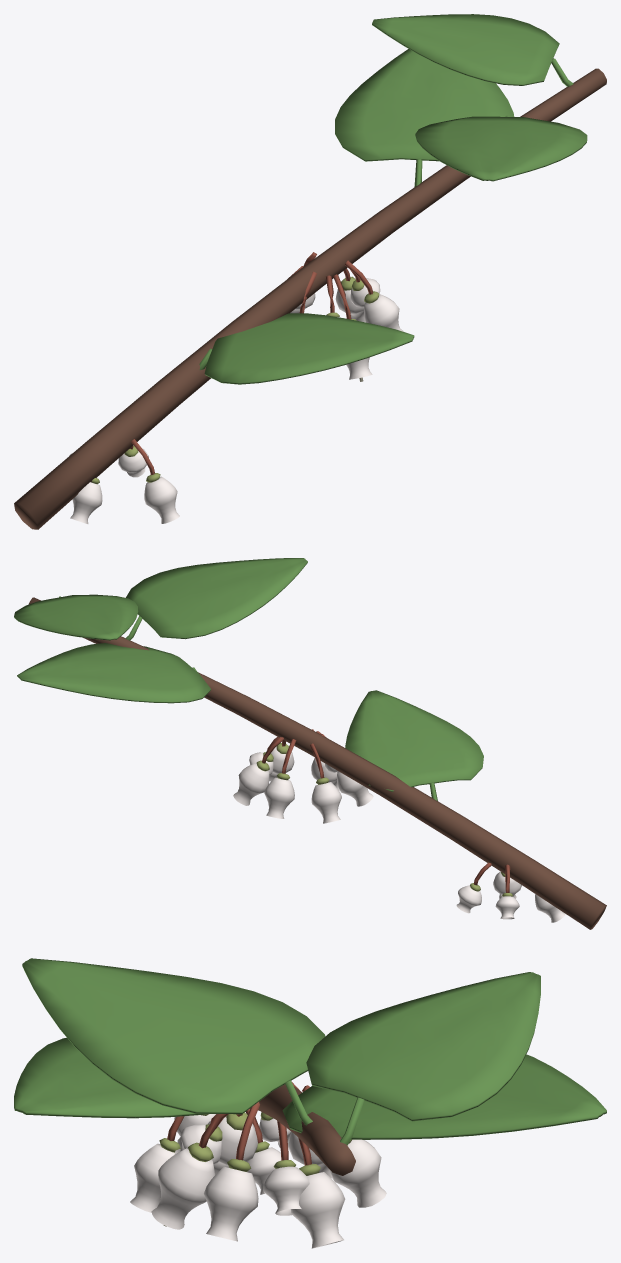
Rendered from flower-vaccinium.glb.
3 views of the same model, one above another, from view 1: azimuth 30°, elevation 25°; view 2: azimuth 150°, elevation 25°; view 3: azimuth 270°, elevation 25° (orthographic). The views are drawn at different scales.
Parts seen in each view (by area): view 1: leaves, twig, cluster_flowers; view 2: leaves, twig, cluster_flowers; view 3: leaves, cluster_flowers, hero_bell, twig, hero_parts.
Part boxes in pixels (box(x1,y1,x2,y2)): leaves: box(199, 14, 587, 384); twig: box(14, 68, 606, 529); cluster_flowers: box(69, 252, 403, 523); leaves: box(14, 558, 483, 800); twig: box(28, 597, 606, 929); cluster_flowers: box(233, 731, 565, 922); leaves: box(14, 958, 606, 1145); cluster_flowers: box(130, 1081, 386, 1248); hero_bell: box(151, 1148, 214, 1229); twig: box(249, 1084, 355, 1175); hero_parts: box(163, 1114, 228, 1226).
Size of the model in its own units: 12.17 by 5.98 by 6.66.
